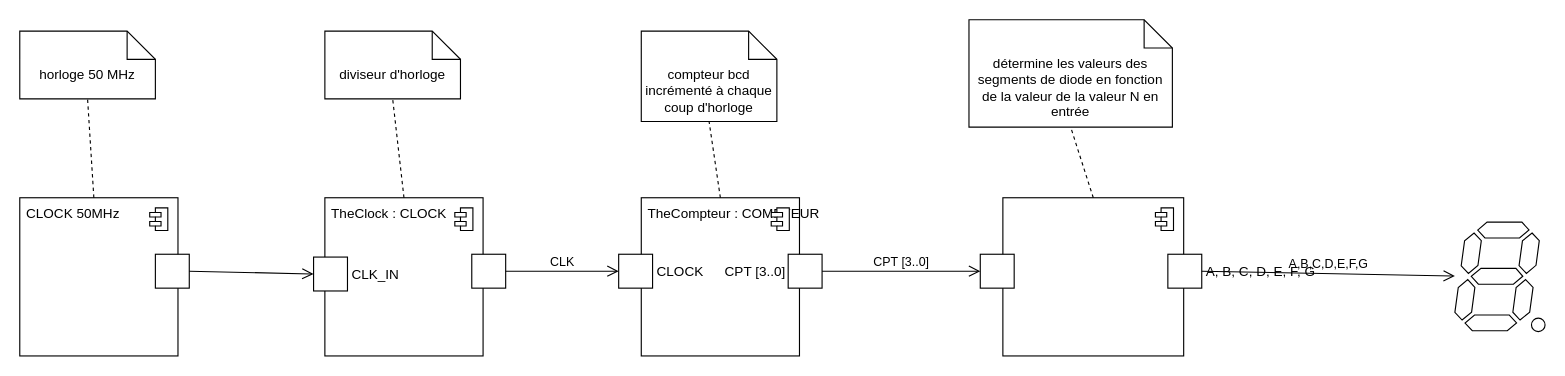
Some shapes in this 1565 by 376 pixel diagram are drawn without their labels. The centre of each missing label's shape, as x and y in pixels:
"50MHz" goes at point (171, 270).
"CLK_OUT" goes at point (488, 270).
"N [3..0]" goes at point (996, 270).
"TheDisplay : LED_DISPLAY" goes at point (1093, 276).
